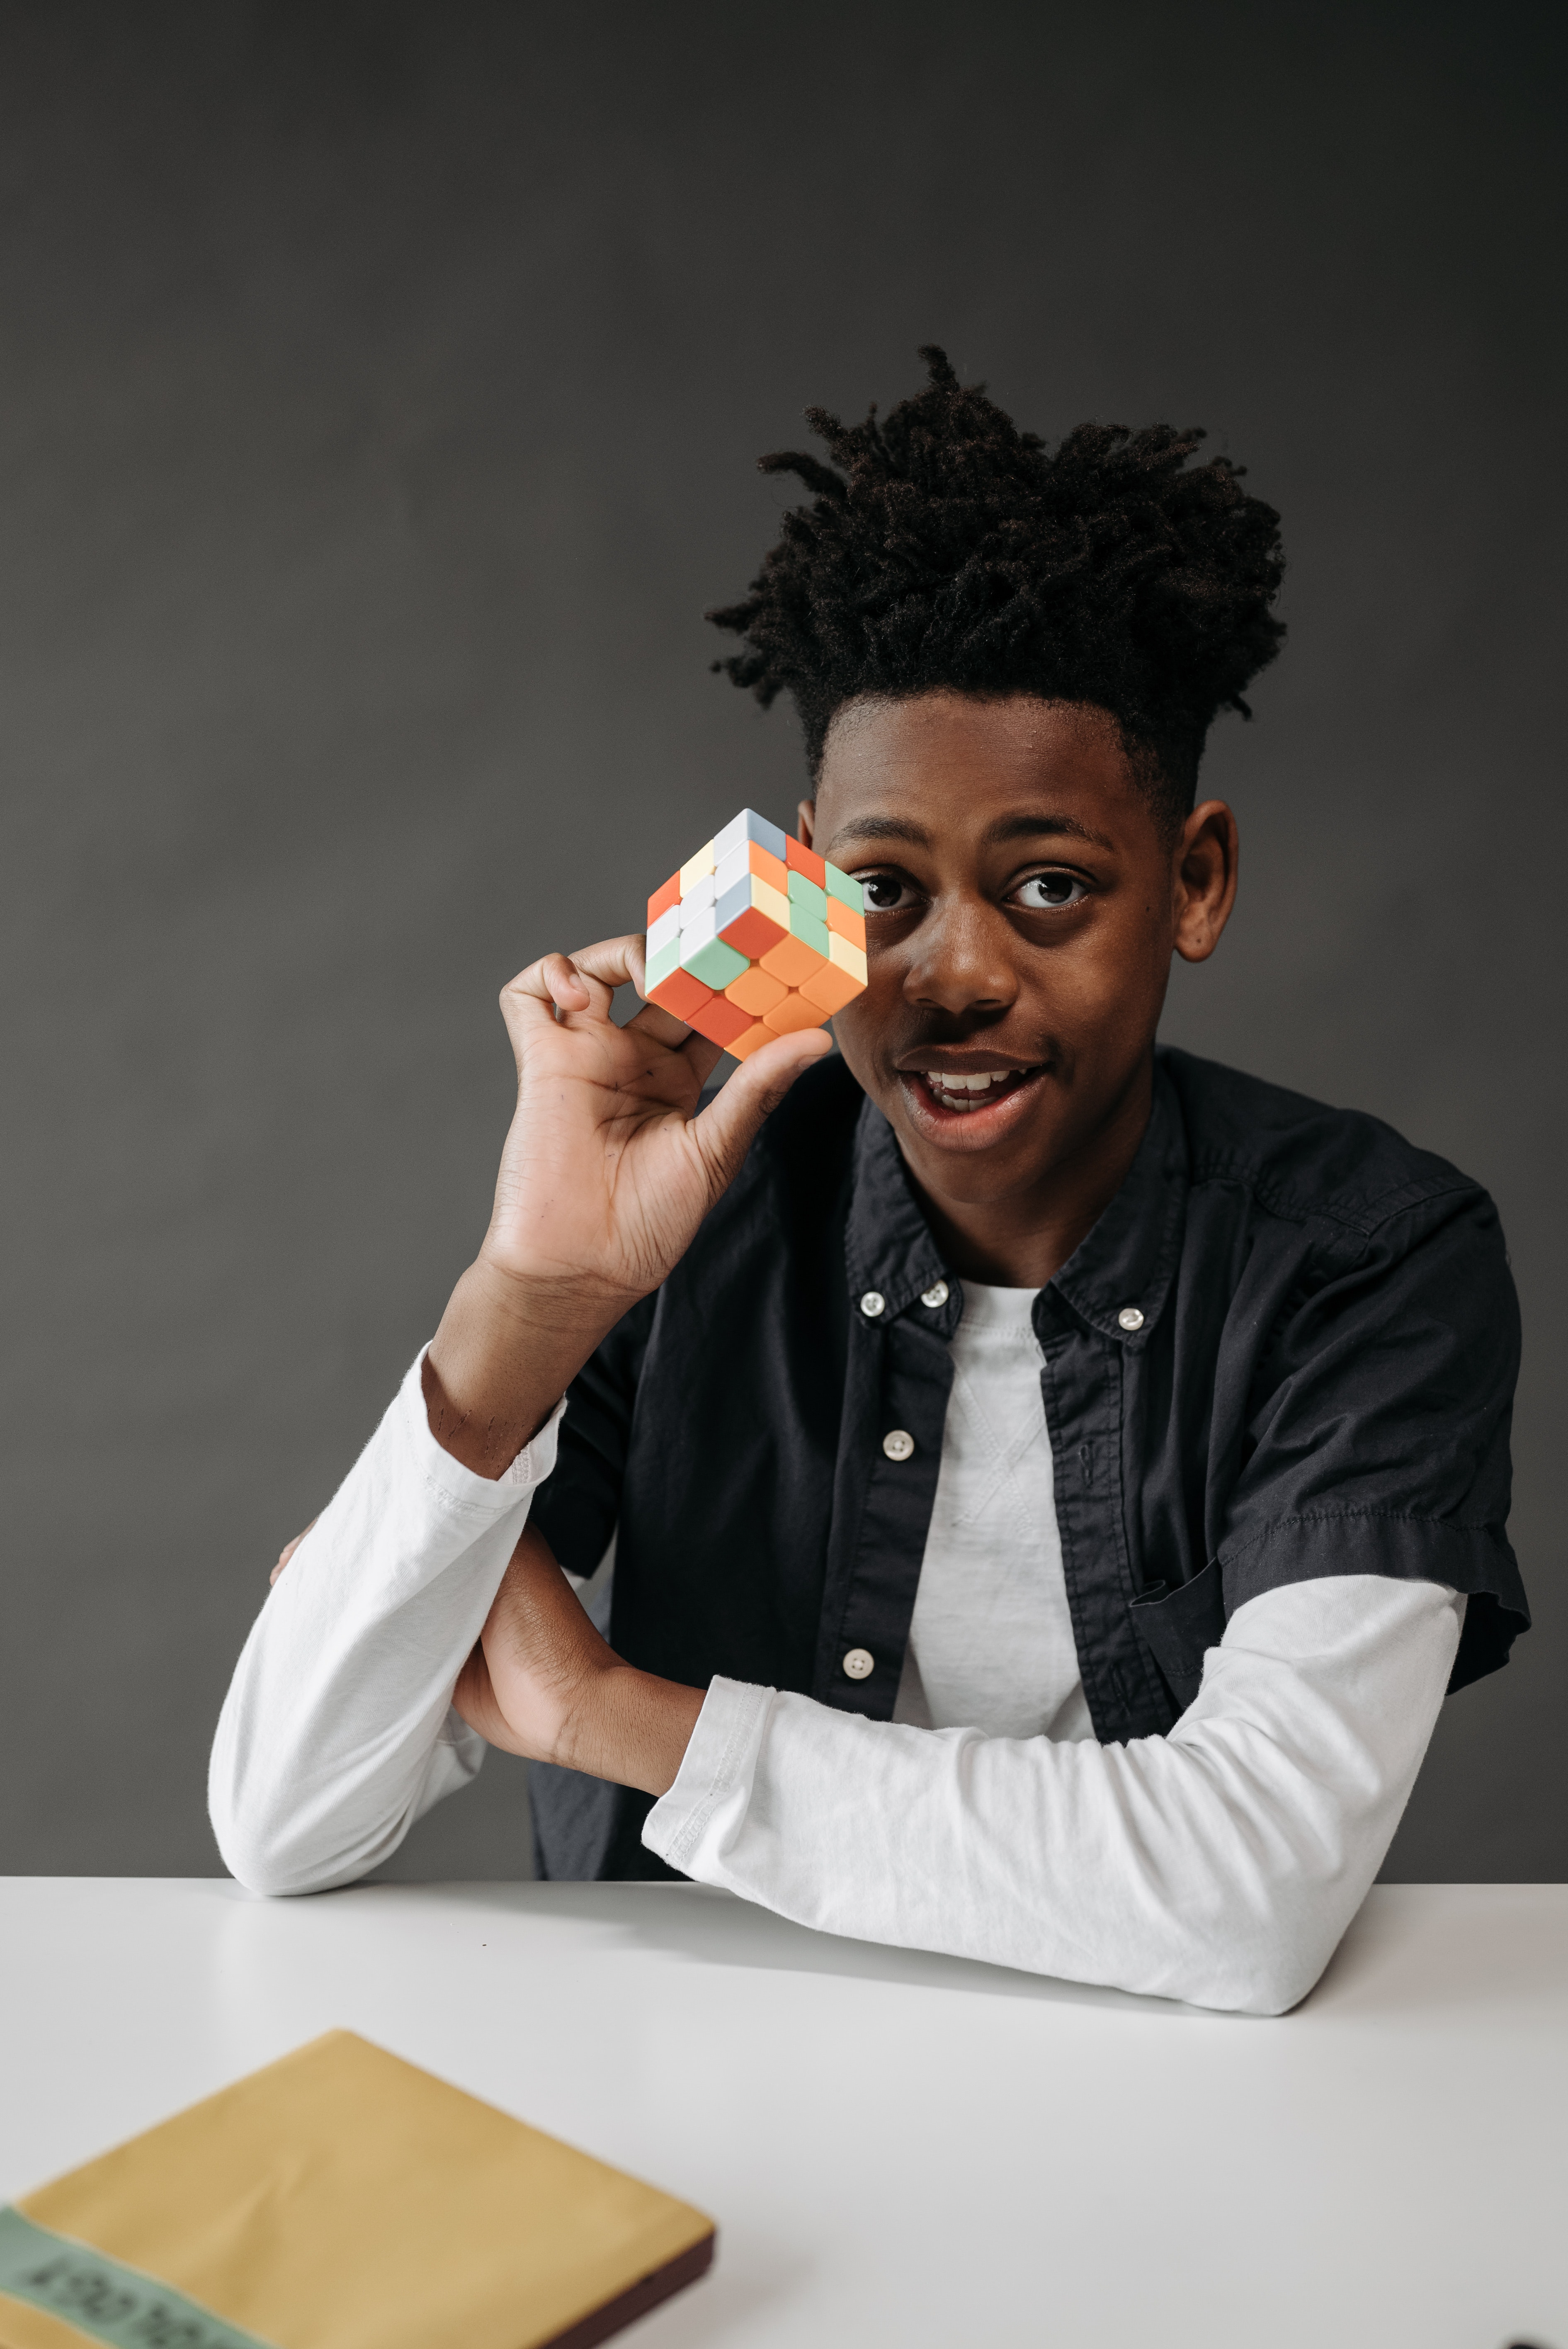cube: (633, 798, 875, 1069)
